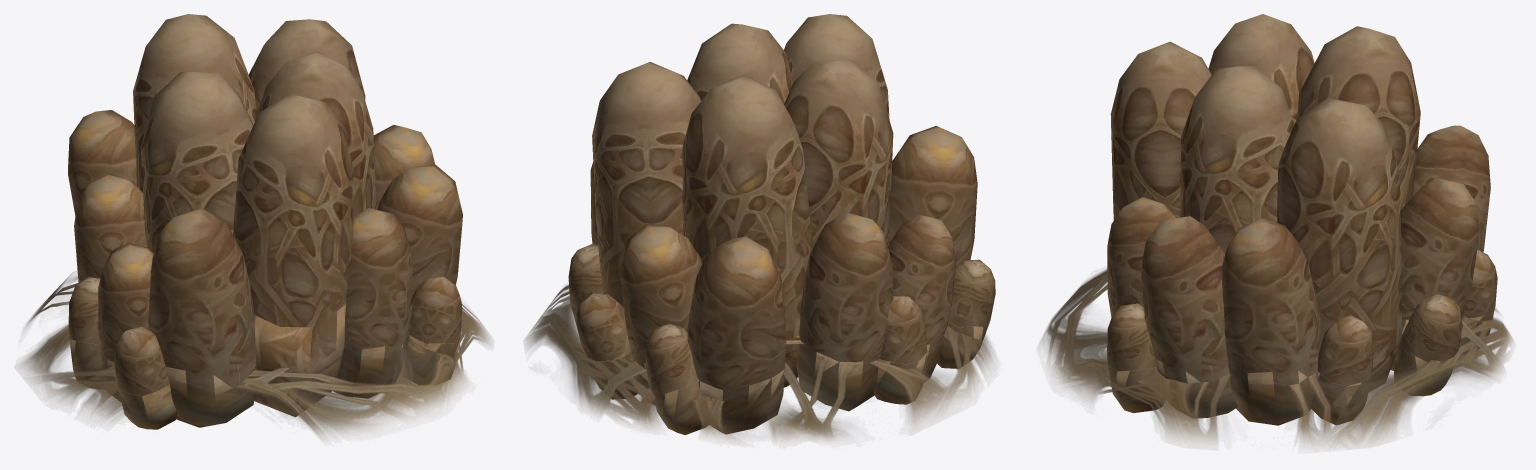
3 views of the same model, side by side, from view 1: azimuth 30°, elevation 25°; view 2: azimuth 150°, elevation 25°; view 3: azimuth 270°, elevation 25° (orthographic).
Bounding box in the file's own units: 2.78 × 2.08 × 2.78.
Materials: 3 (3 with a texture image).
